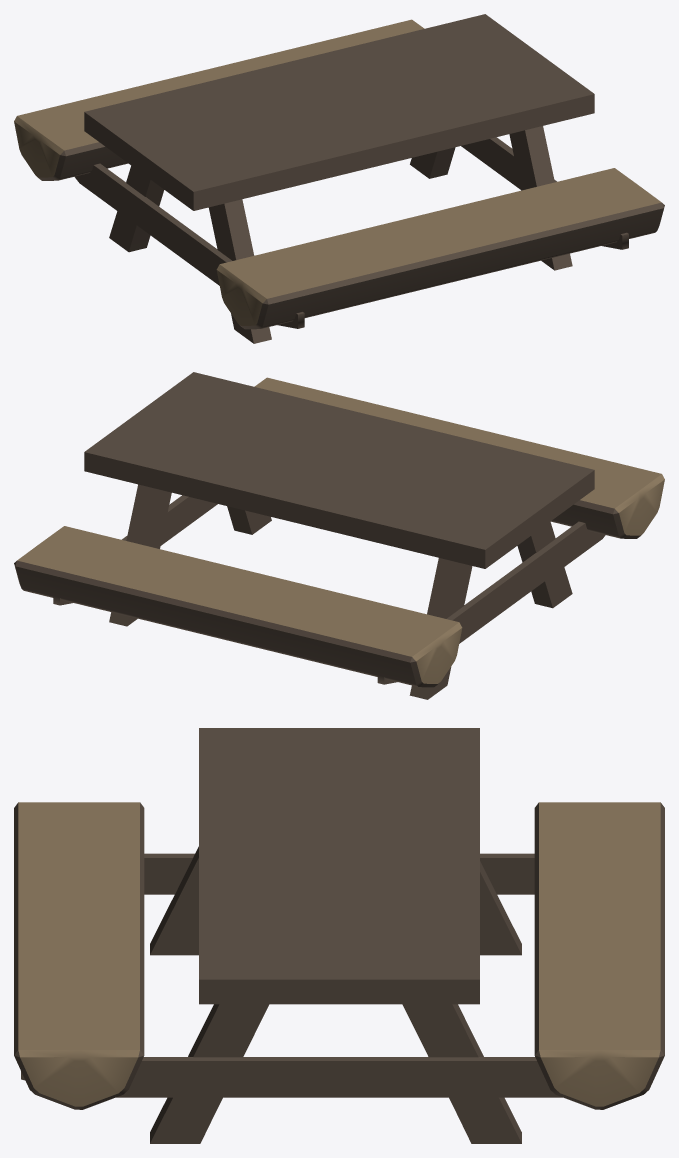
Rendered from Picnic_Table.fbx.
3 renders of one model, top to bottom at view 1: azimuth 30°, elevation 25°; view 2: azimuth 150°, elevation 25°; view 3: azimuth 270°, elevation 25°, orthographic. The views are drawn at different scales.
Parts seen in each view (by area): view 1: pPlane2; view 2: pPlane2; view 3: pPlane2.
Part boxes in pixels (x1,y1,x2,y2): pPlane2: (14,14,664,343); pPlane2: (14,372,664,699); pPlane2: (14,728,664,1143).
Size of the model in its own units: 3.47 by 1.22 by 3.79.
